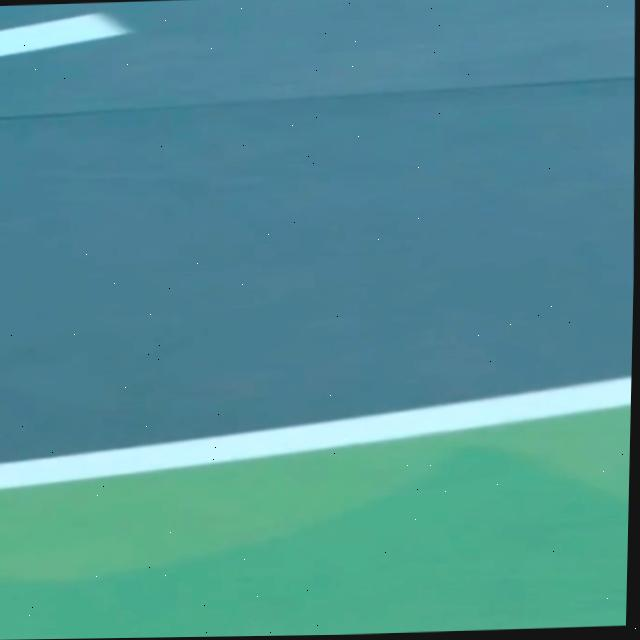center: (0, 14, 128, 54)
right: (0, 375, 631, 487)
